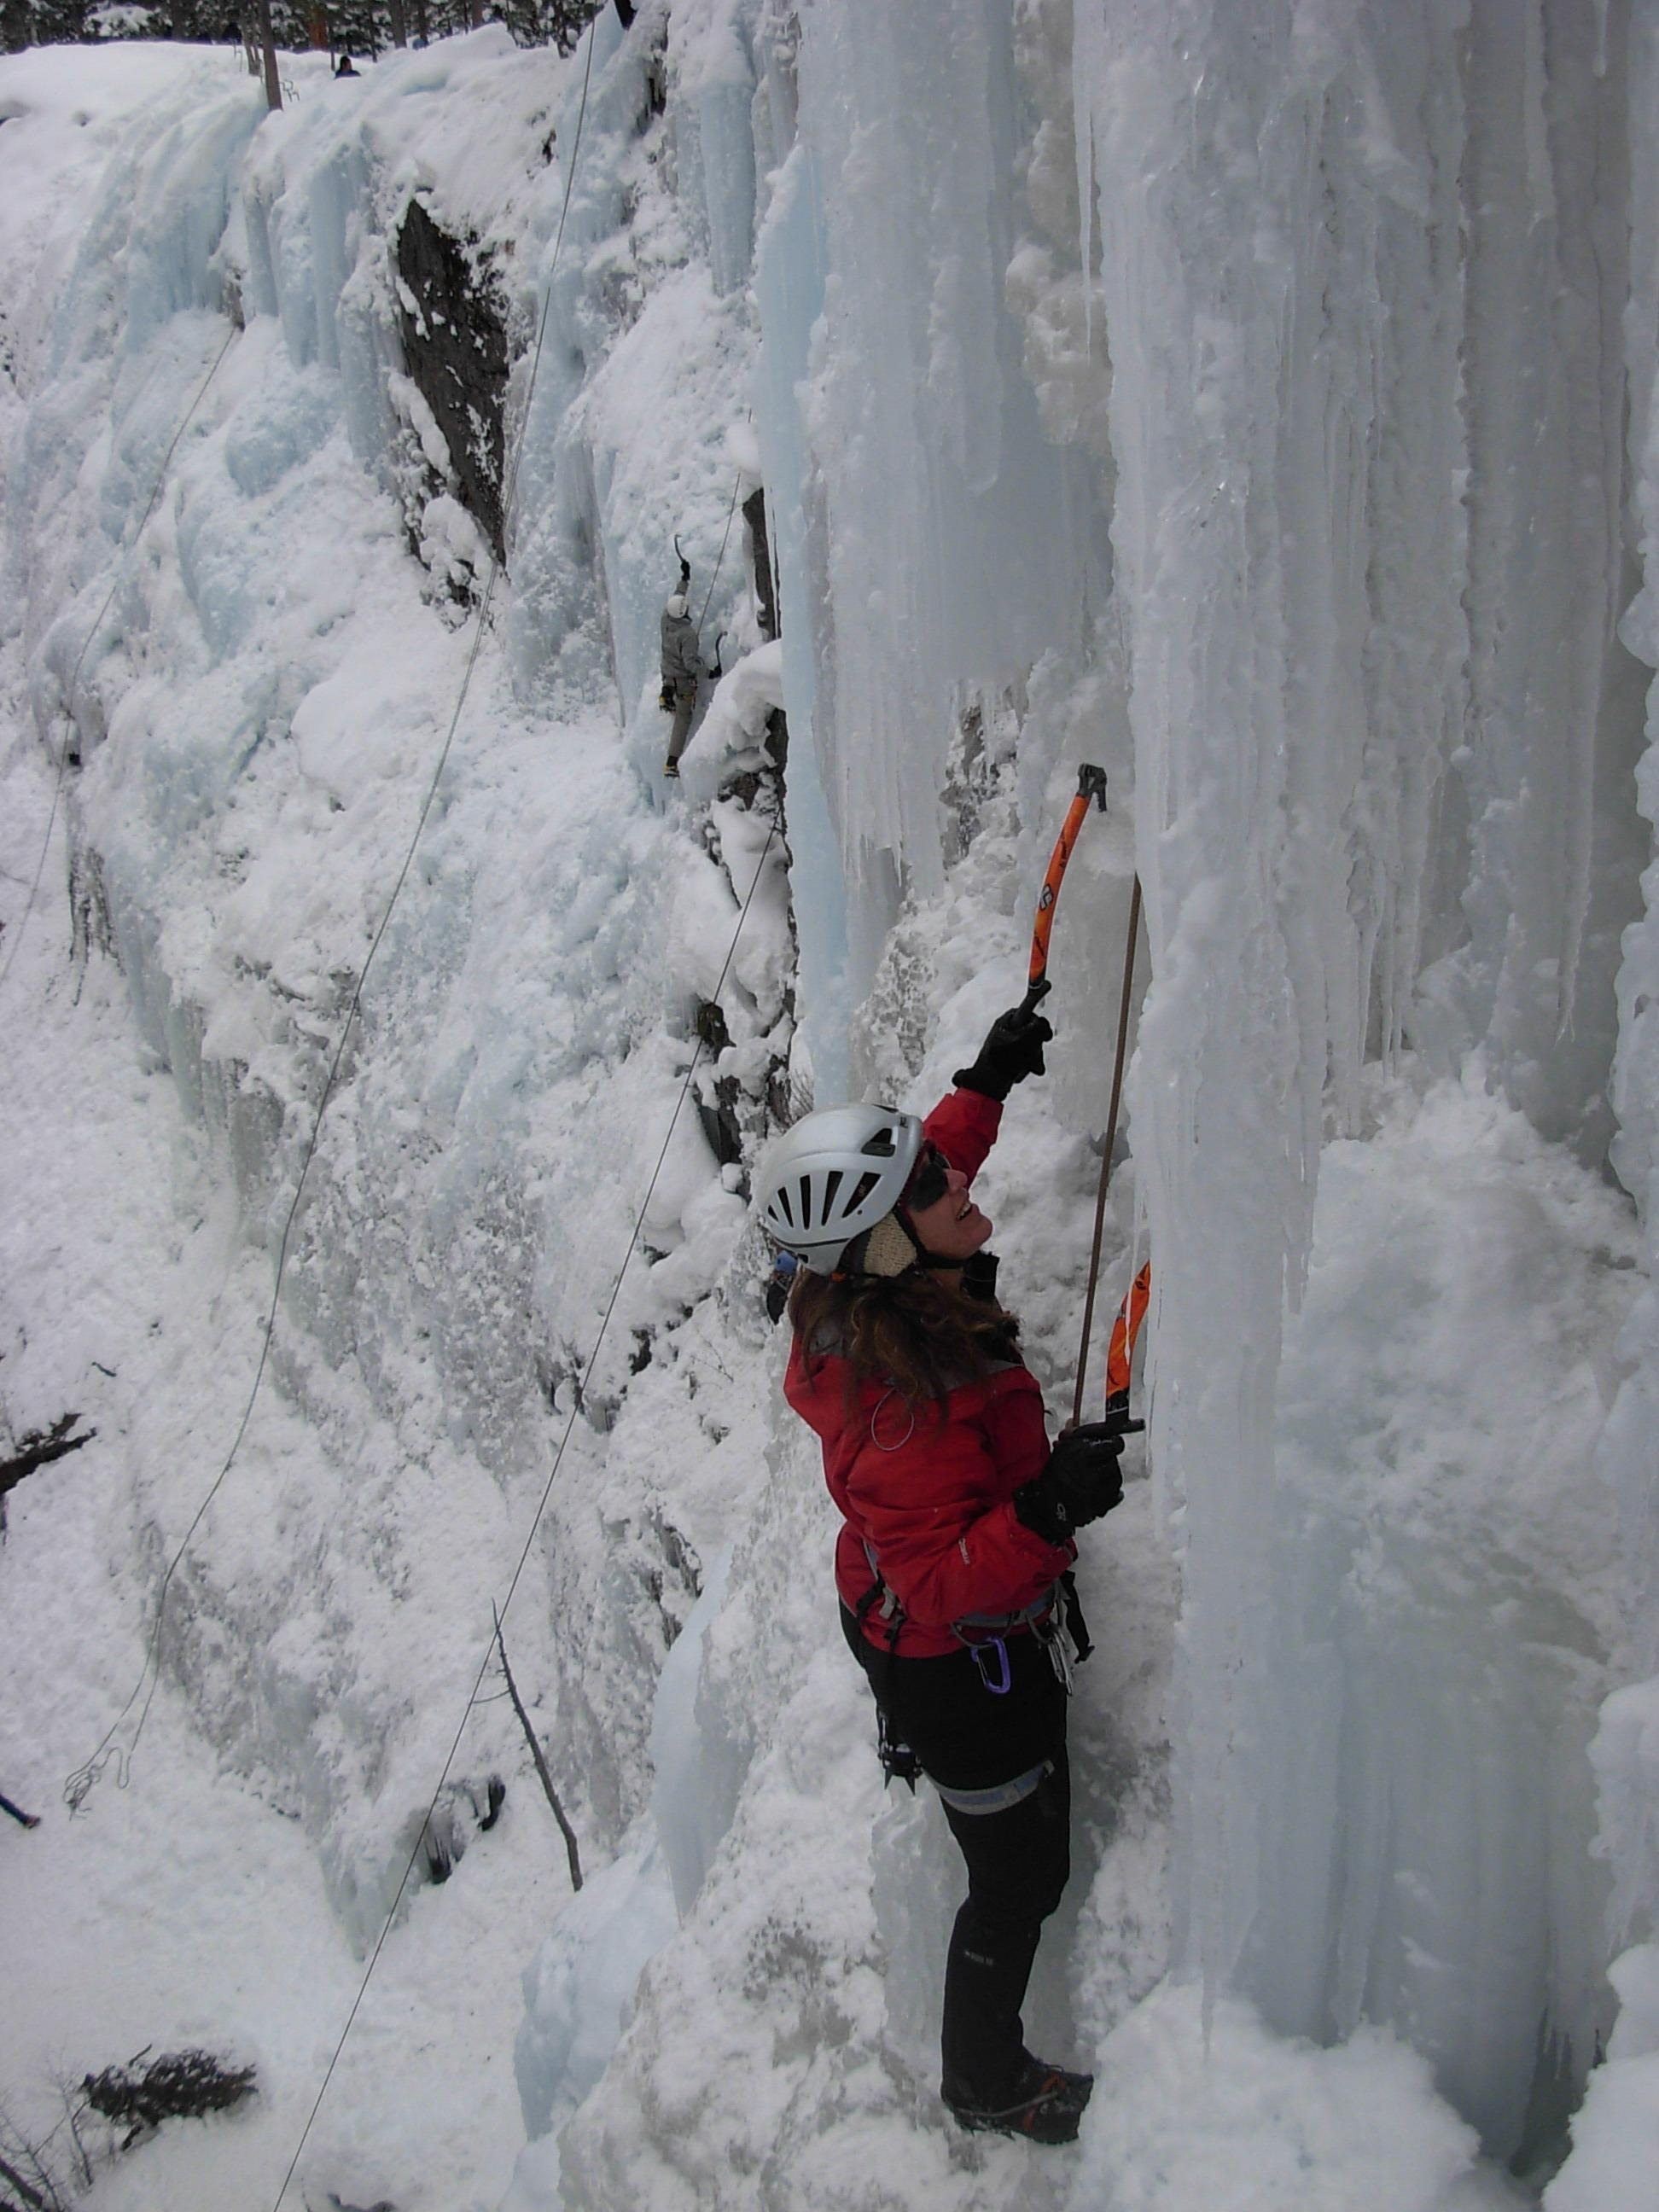helmet: (723, 1082, 953, 1301)
